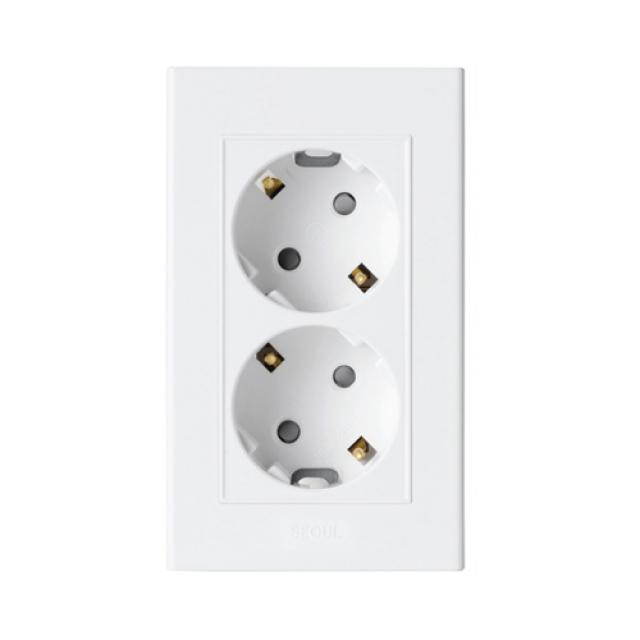typeb: (114, 38, 572, 622)
